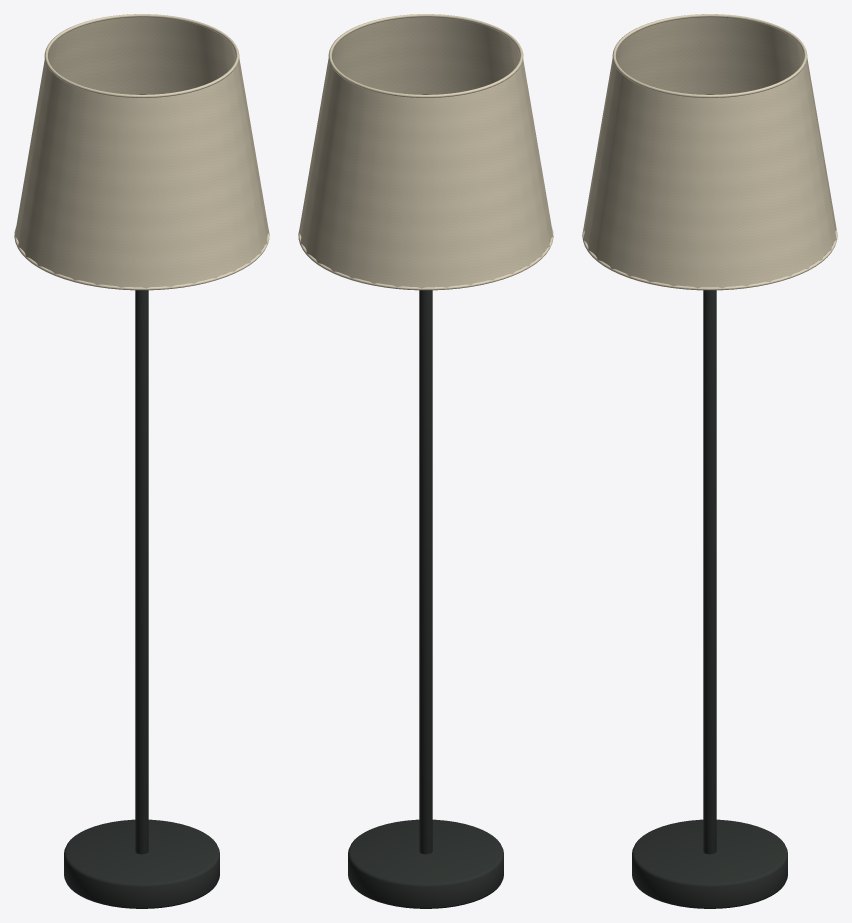
File: floor-lamp.glb
The picture shows the model from 3 angles, left to right: view 1: azimuth 30°, elevation 25°; view 2: azimuth 150°, elevation 25°; view 3: azimuth 270°, elevation 25°; orthographic projection.
Parts seen in each view (by area): view 1: floor-lamp-mesh; view 2: floor-lamp-mesh; view 3: floor-lamp-mesh.
Boxes of the visible parts, <box> form: floor-lamp-mesh: <box>14,14,269,908</box>; floor-lamp-mesh: <box>298,14,553,908</box>; floor-lamp-mesh: <box>582,14,837,908</box>.
Size of the model in its own units: 0.45 by 1.6 by 0.45.
2 materials, 1 textured.
